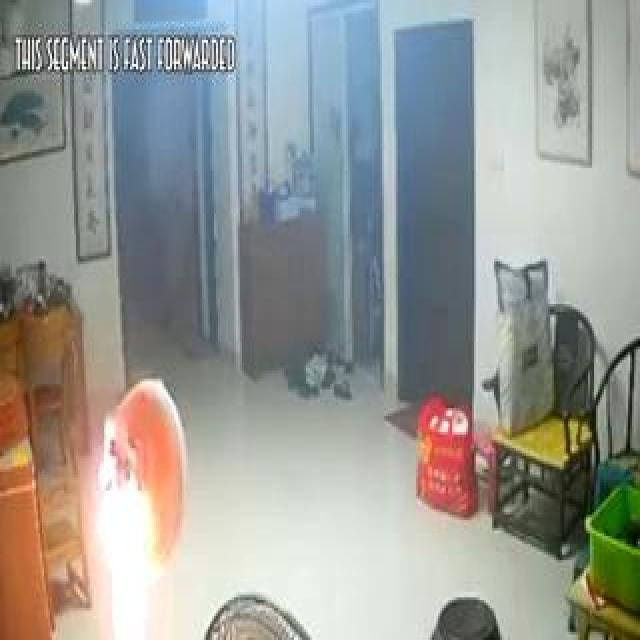Fire: (101, 373, 171, 638)
